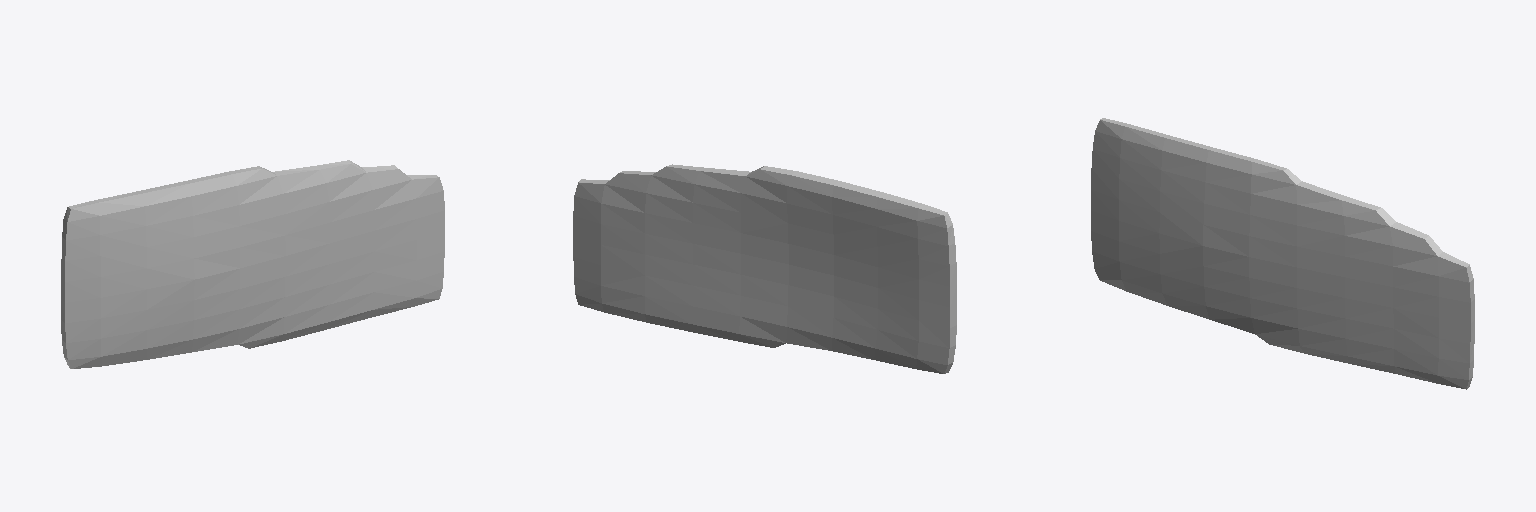
File: old Fatty tissue.obj
3 renders of one model, left to right at view 1: azimuth 30°, elevation 25°; view 2: azimuth 150°, elevation 25°; view 3: azimuth 330°, elevation 25°, orthographic.
Parts seen in each view (by area): view 1: old_Fatty_tissue_Fatty_tissue_around_Fatty_tissue_around_abdomin; view 2: old_Fatty_tissue_Fatty_tissue_around_Fatty_tissue_around_abdomin; view 3: old_Fatty_tissue_Fatty_tissue_around_Fatty_tissue_around_abdomin.
Boxes of the visible parts, x1=… form: old_Fatty_tissue_Fatty_tissue_around_Fatty_tissue_around_abdomin: x1=61, y1=160, x2=444, y2=368; old_Fatty_tissue_Fatty_tissue_around_Fatty_tissue_around_abdomin: x1=573, y1=164, x2=956, y2=373; old_Fatty_tissue_Fatty_tissue_around_Fatty_tissue_around_abdomin: x1=1091, y1=118, x2=1474, y2=389.
Bounding box in the file's own units: 17.18 × 7.86 × 1.23.